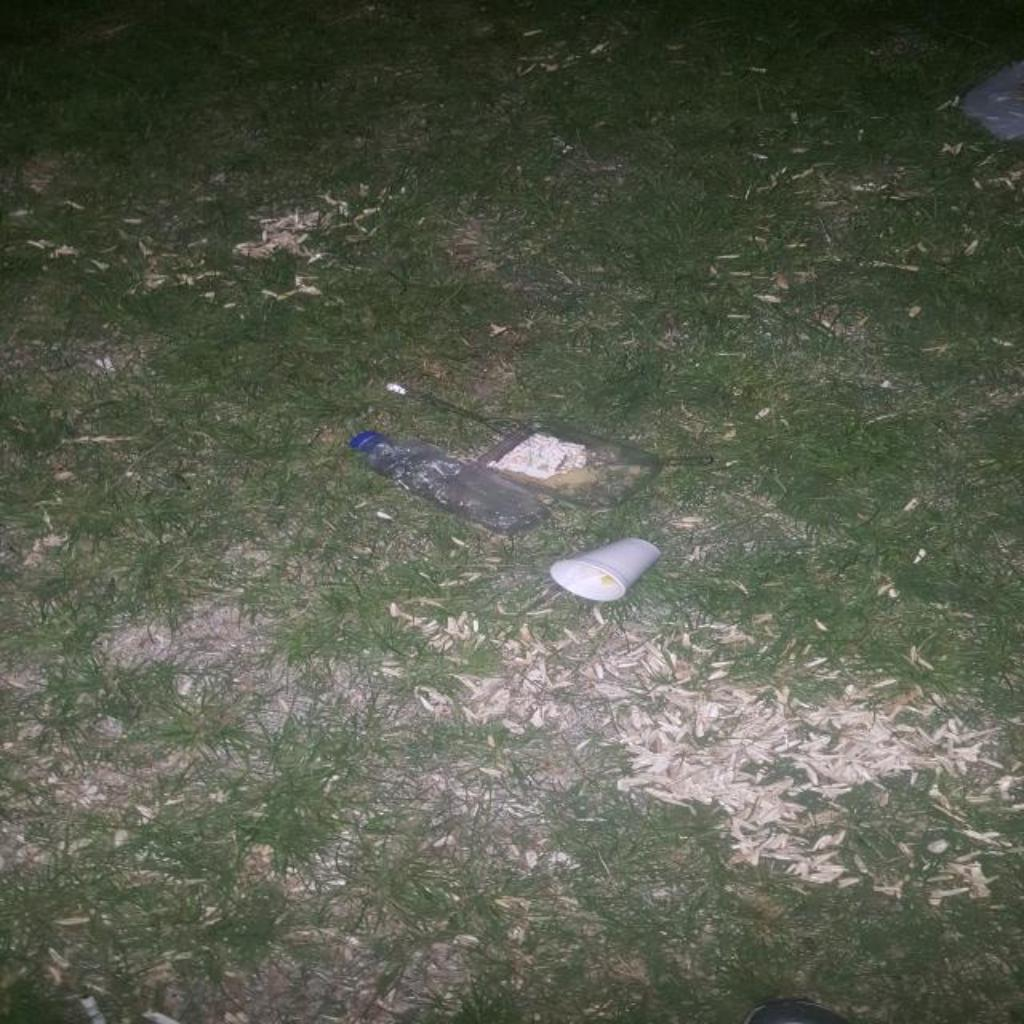garbage: (390, 379, 714, 507), (350, 431, 550, 538), (549, 538, 658, 606)
